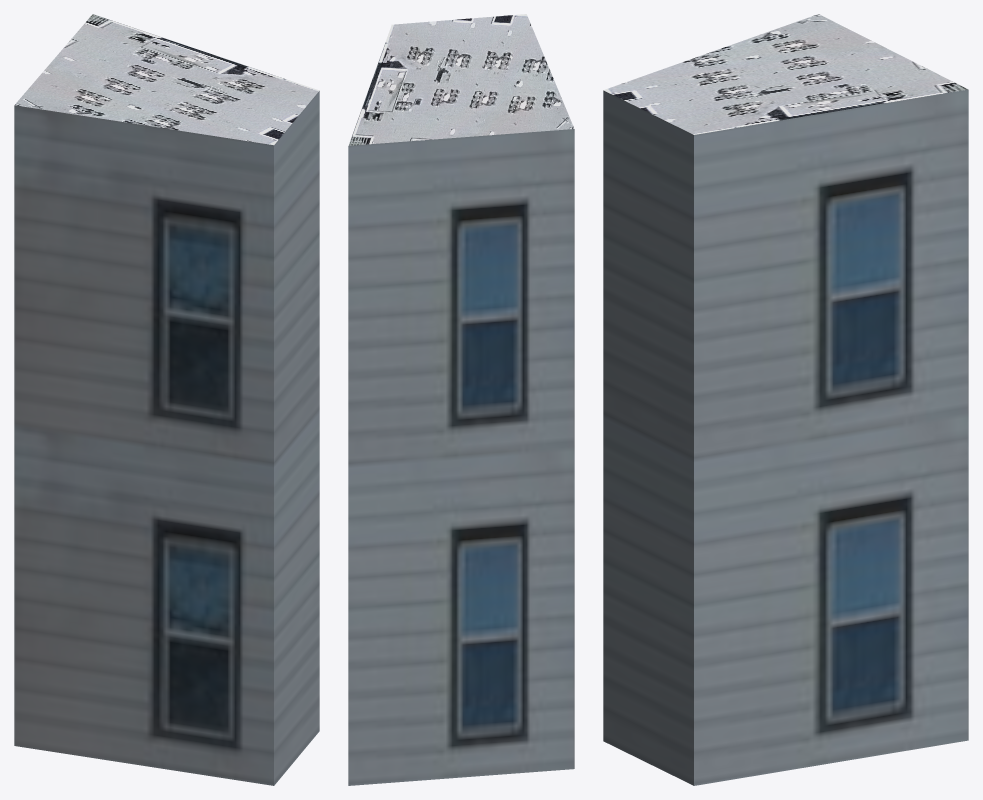
Rendered from ResTex__19.fbx.
3 renders of one model, left to right at view 1: azimuth 30°, elevation 25°; view 2: azimuth 150°, elevation 25°; view 3: azimuth 270°, elevation 25°, orthographic.
Visible parts, largest first — view 1: CityEngineMaterial_18_m, CityEngineMaterial_8_m; view 2: CityEngineMaterial_18_m, CityEngineMaterial_8_m; view 3: CityEngineMaterial_18_m, CityEngineMaterial_8_m.
Part boxes in pixels (x1=…): CityEngineMaterial_18_m: x1=14, y1=91, x2=319, y2=785; CityEngineMaterial_8_m: x1=14, y1=14, x2=319, y2=145; CityEngineMaterial_18_m: x1=348, y1=129, x2=574, y2=785; CityEngineMaterial_8_m: x1=348, y1=14, x2=574, y2=145; CityEngineMaterial_18_m: x1=603, y1=89, x2=968, y2=785; CityEngineMaterial_8_m: x1=603, y1=14, x2=968, y2=134.
Bounding box in the file's own units: 2.39 × 6 × 3.05.
2 materials, 2 textured.
